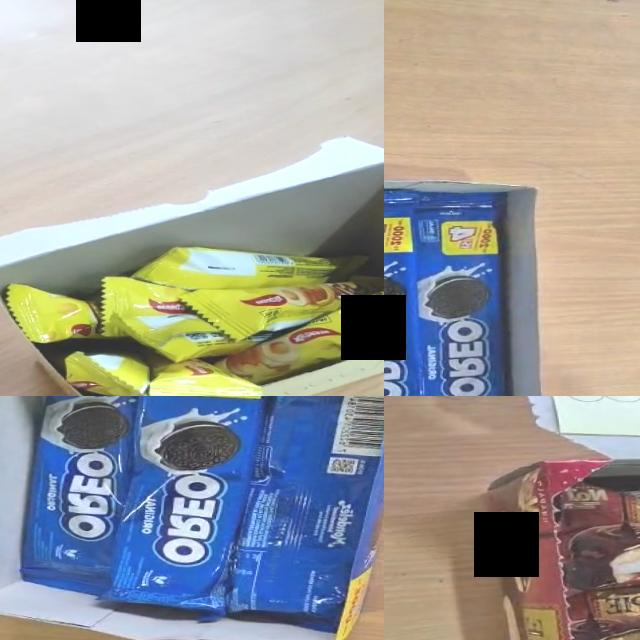Ahh: (100, 272, 282, 362), (216, 298, 384, 383), (178, 276, 384, 341), (130, 242, 368, 290), (6, 282, 128, 344), (143, 346, 261, 396), (64, 350, 152, 396)
Chocopie: (554, 470, 640, 590), (563, 577, 640, 640)
Oreo: (89, 396, 294, 623), (219, 396, 384, 634), (384, 179, 546, 396), (14, 396, 143, 595)
